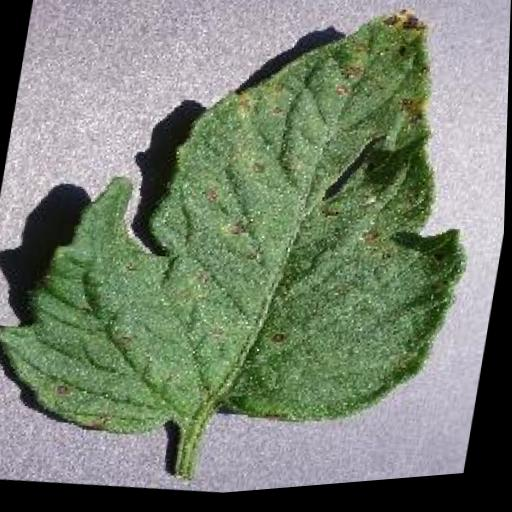Septoria: (0, 0, 509, 487)
